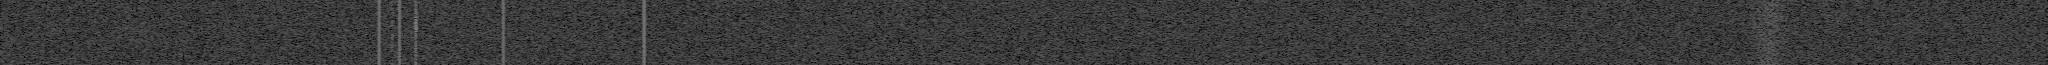wv_am: (641, 0, 647, 65), (397, 0, 402, 65)
wv_cw: (376, 0, 381, 65), (502, 0, 505, 65)
wv_lsb: (389, 0, 394, 65)
wv_usb: (413, 0, 419, 65)
wv_wbfm: (1742, 0, 1796, 65)
